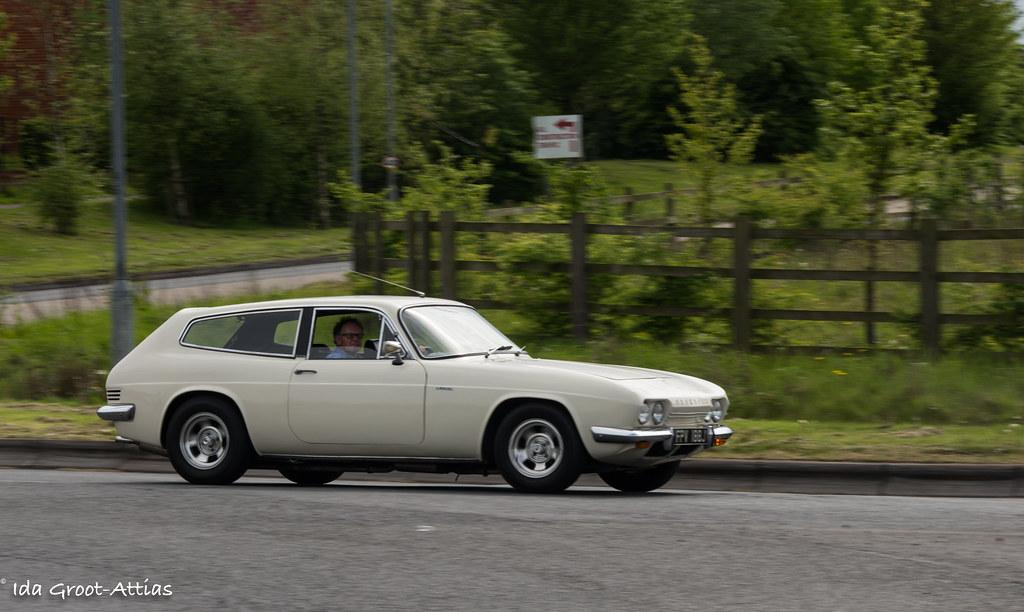car: (97, 294, 734, 494)
